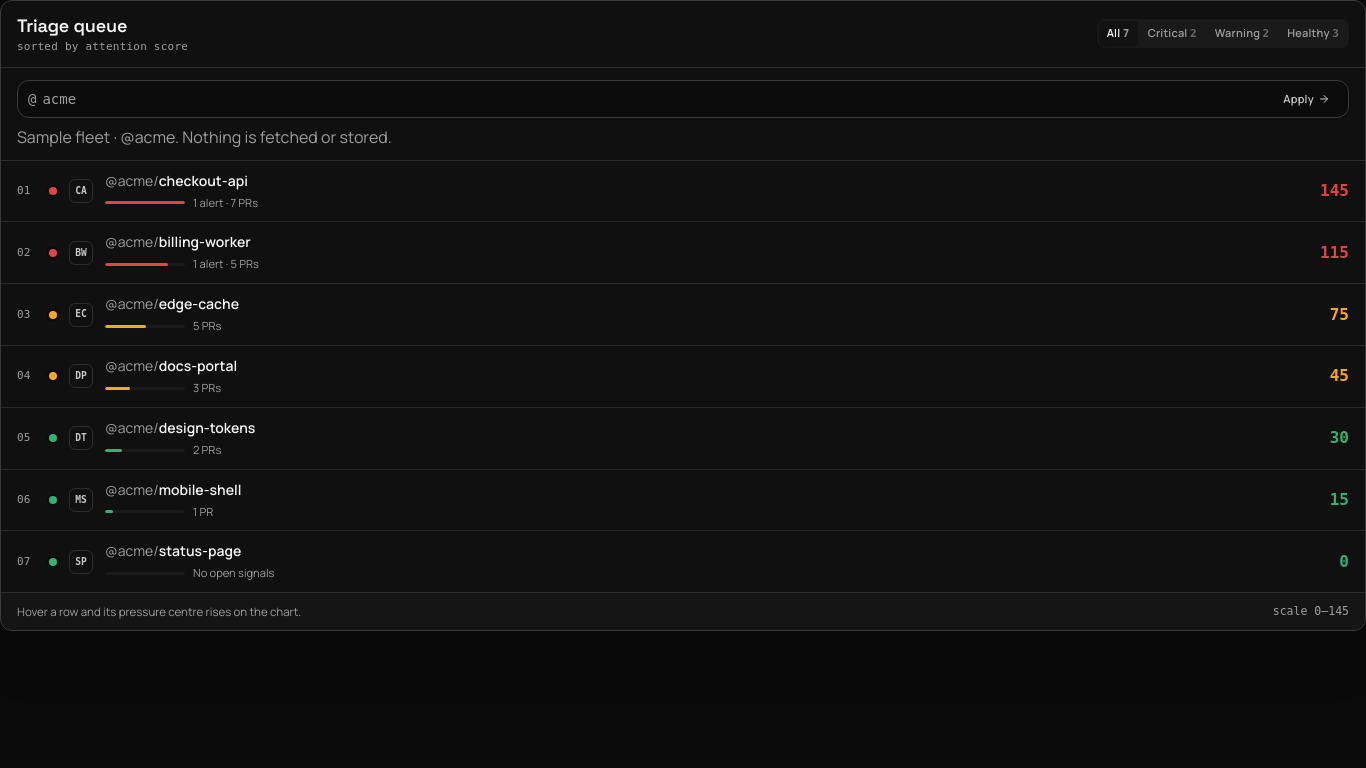
Test case: promo queue card › filters the queue by status without touching the handle
Type "octocat" into the field named "Preview the queue for a GitHub account". click: (656, 99)
box: [42,81,1269,117]
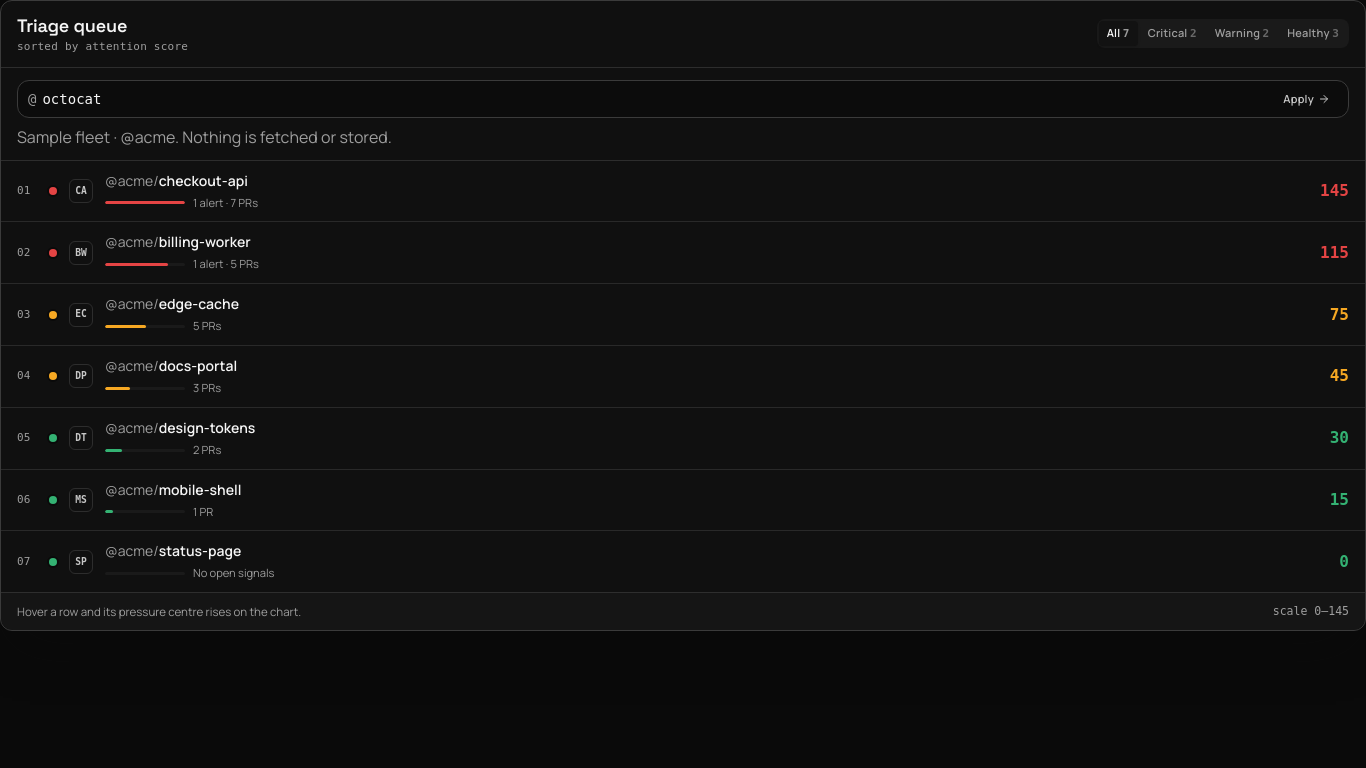
Submit the form named "Preview the queue for a GitHub account", box [1,68,1365,161]
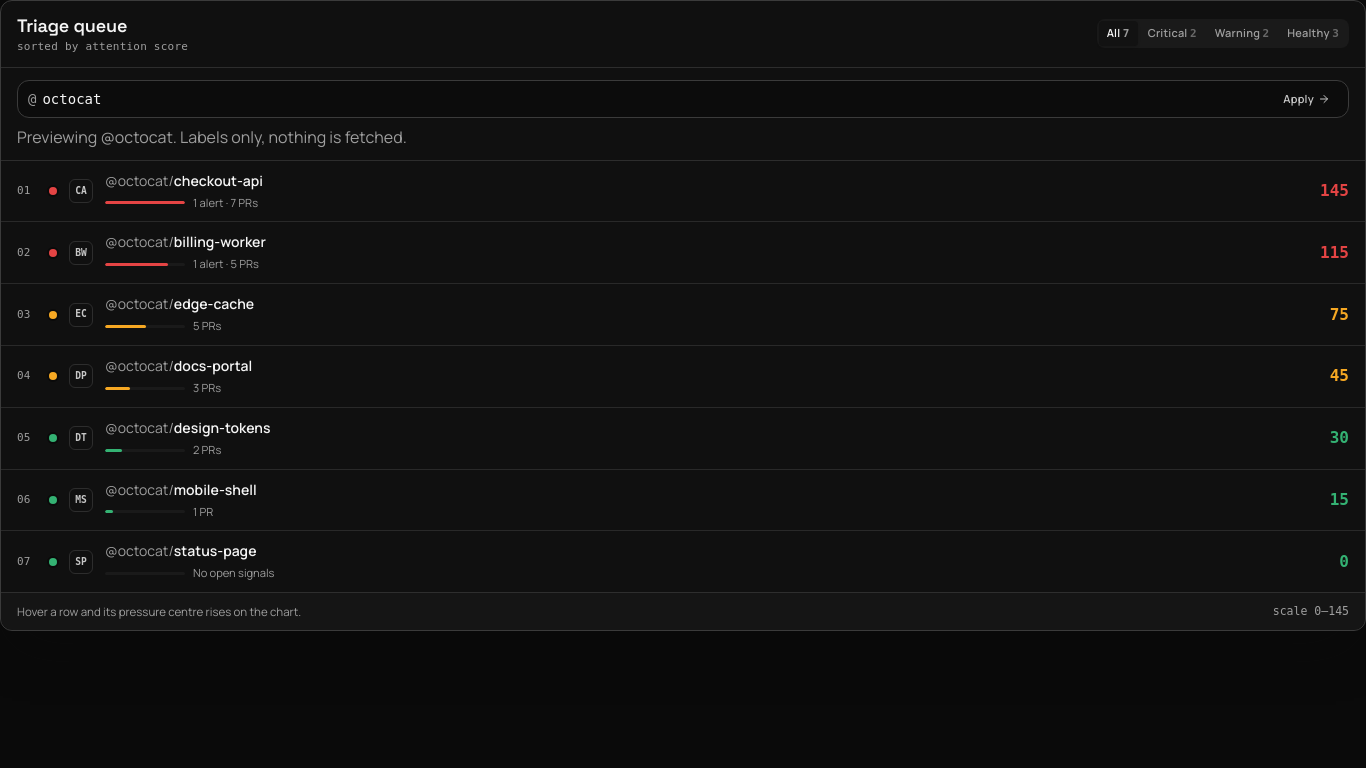
Click the button "Critical 2". click: (1172, 34)
box: [1140,21,1205,46]
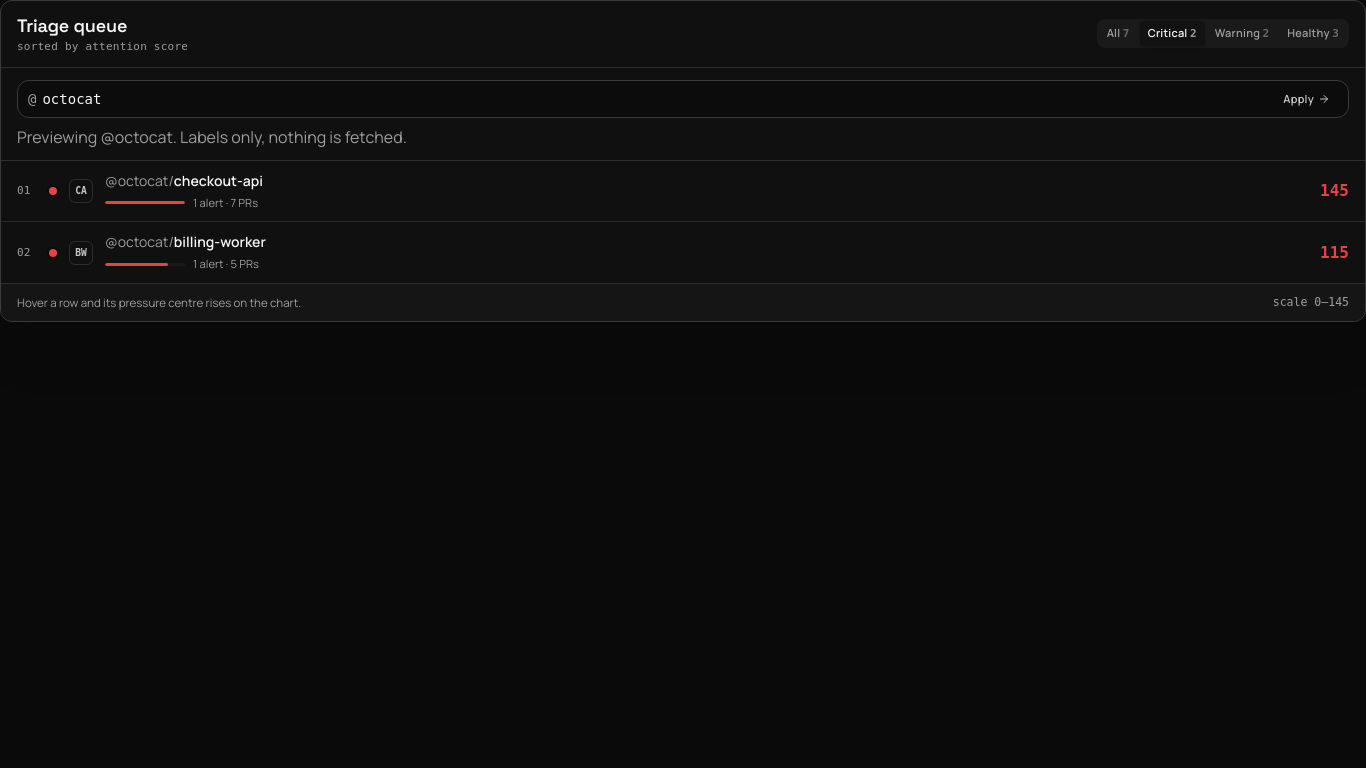
Expected: the text "@octocat/checkout-api" is shown, [105,171,263,190]
Expected: the text "@octocat/billing-worker" is shown, [105,232,266,251]
Expected: the number of list items is 2, [1,161,1365,222]; [1,222,1365,283]
Click the button "Healthy 3". click: (1313, 34)
box: [1279,21,1347,46]
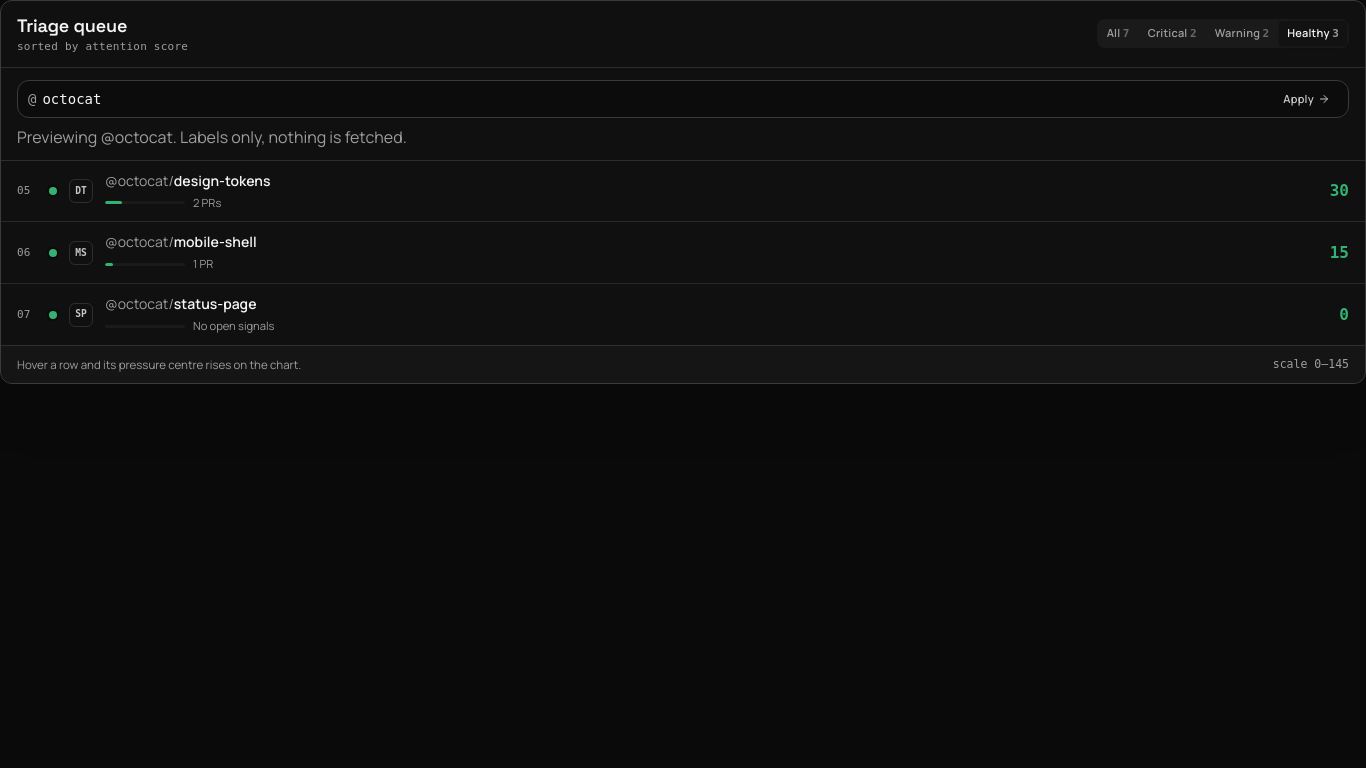
Expected: the number of list items is 3, [1,161,1365,222]; [1,222,1365,284]; [1,284,1365,345]
Expected: the text "@octocat/checkout-api" is gone
Click the button "All 7". click: (1118, 34)
box: [1099,21,1138,46]
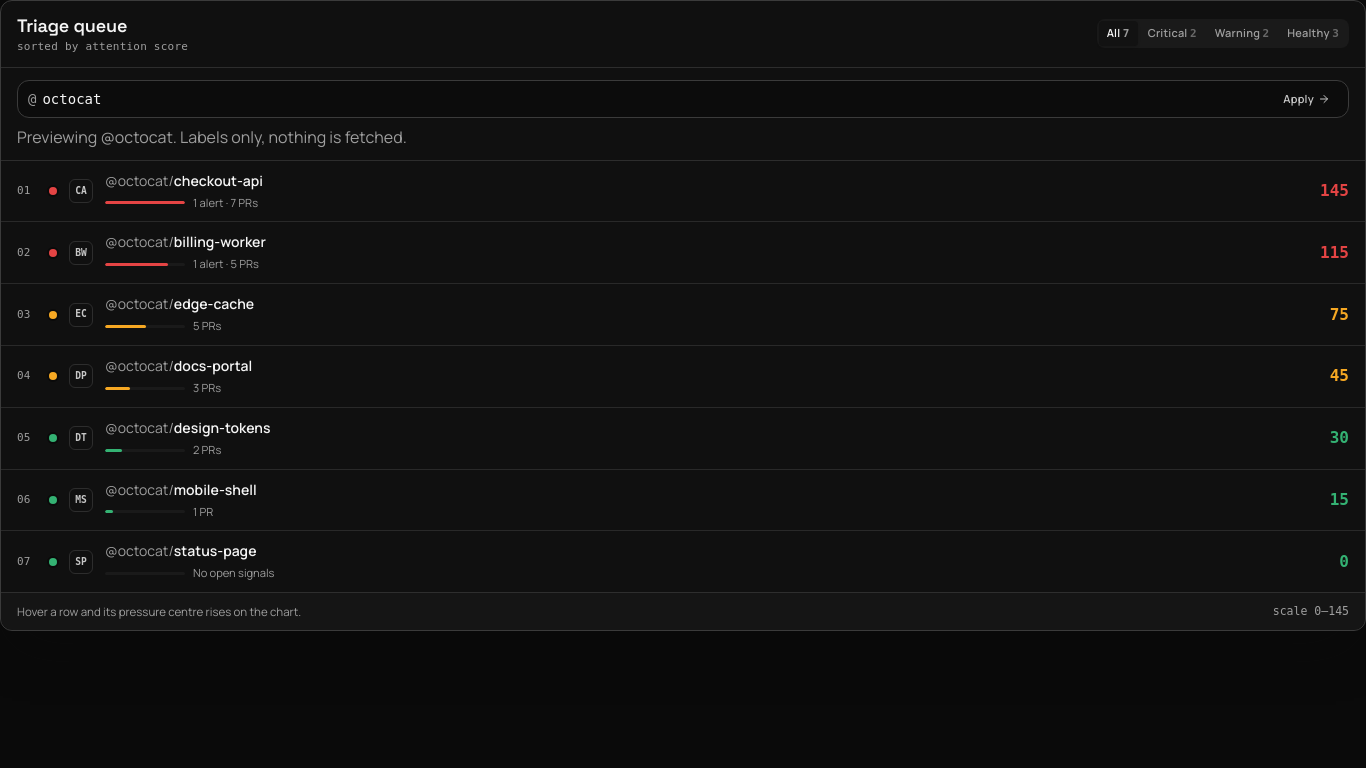
Expected: the number of list items is 7
Expected: the text "@octocat/checkout-api" is shown, [105,171,263,190]
